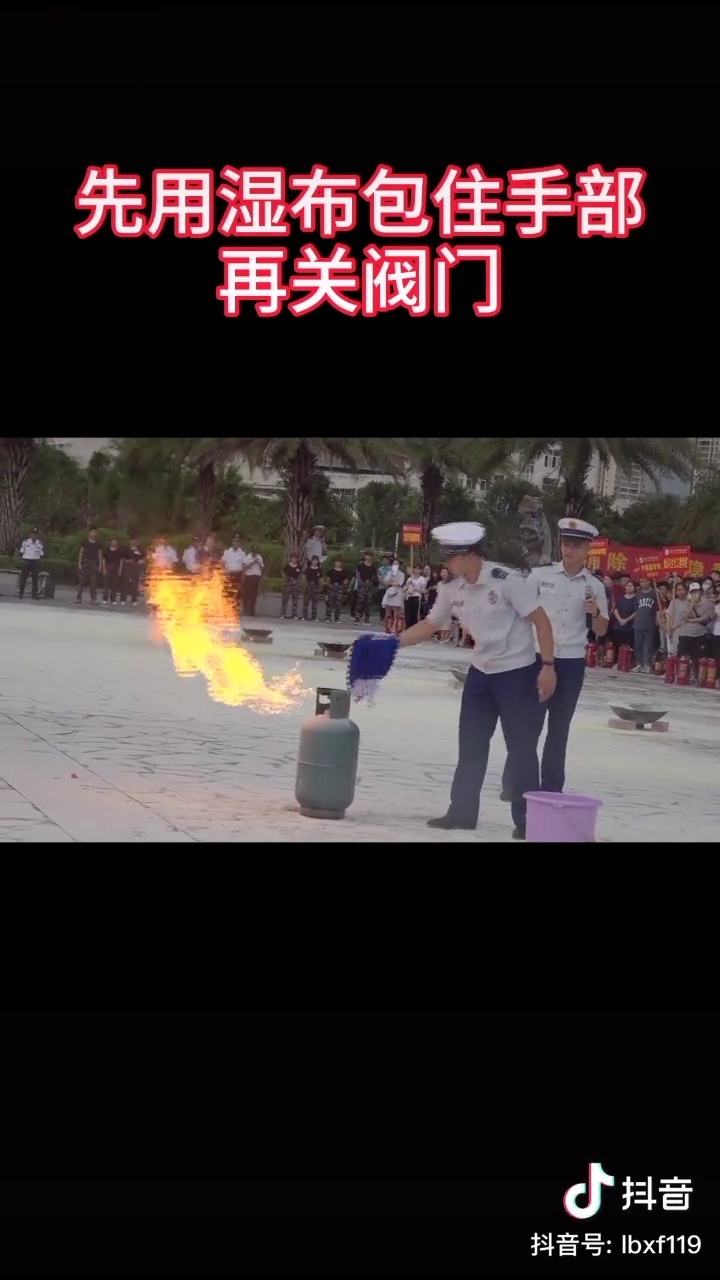fire: (141, 547, 300, 702)
